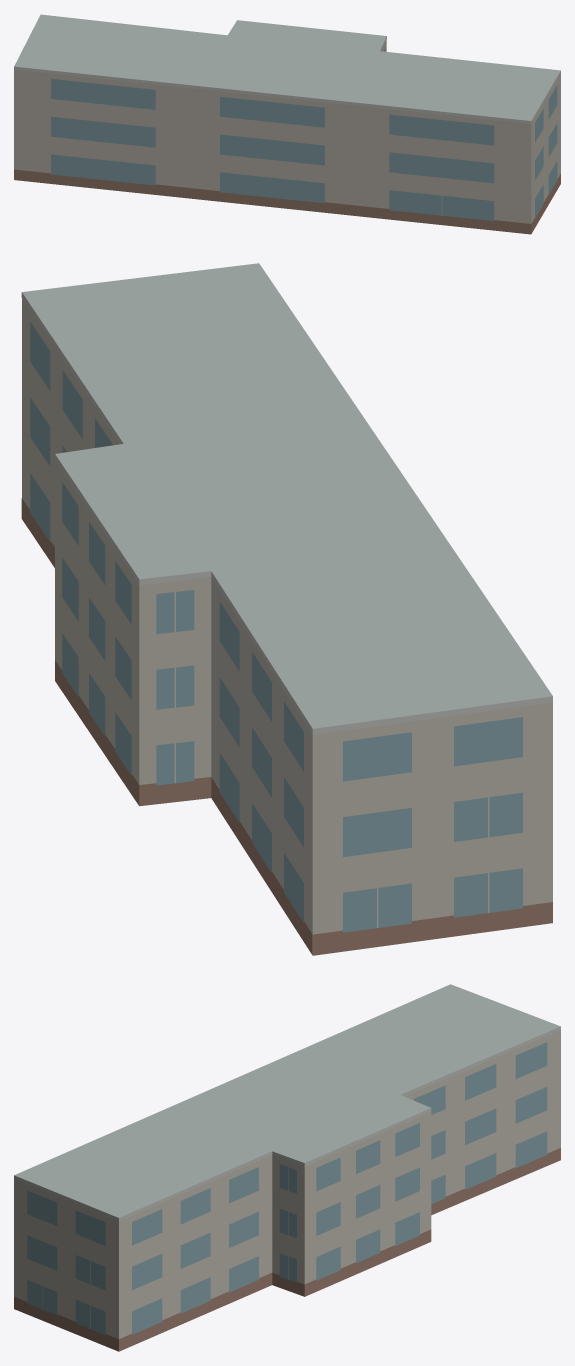
The model's file is survey-upis-32753233.glb.
3 views of the same model, one above another, from view 1: azimuth 30°, elevation 25°; view 2: azimuth 150°, elevation 25°; view 3: azimuth 270°, elevation 25° (orthographic). The views are drawn at different scales.
Visible parts, largest first — view 1: survey-upis-32753233.tmp; view 2: survey-upis-32753233.tmp; view 3: survey-upis-32753233.tmp.
Part boxes in pixels (x1,y1,x2,y2): survey-upis-32753233.tmp: (14,14,560,234); survey-upis-32753233.tmp: (21,263,552,955); survey-upis-32753233.tmp: (14,984,560,1351).
Size of the model in its own units: 34.3 by 9.15 by 33.91.
